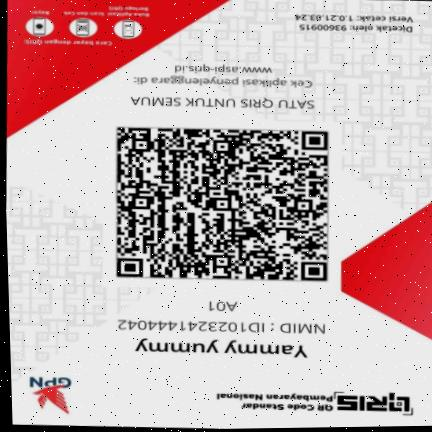Cara Pakai QRIS: (15, 1, 156, 49)
Cek Aplikasi Penyelenggara: (129, 59, 324, 90)
Dicetak Oleh: (297, 24, 415, 34)
Logo GPN: (19, 370, 80, 417)
Logo dan deskripsi QRIS: (207, 384, 419, 422)
Nama Merchant: (123, 335, 319, 364)
National Merchant ID: (109, 315, 331, 340)
QR Code: (103, 117, 343, 291)
Slogan: (123, 91, 324, 113)
Terminal ID: (185, 297, 254, 316)
Versi Cetak: (292, 13, 417, 24)
